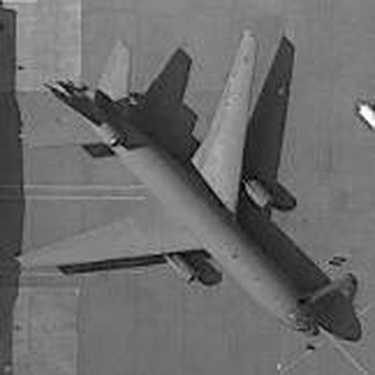airplane: (11, 15, 342, 356)
